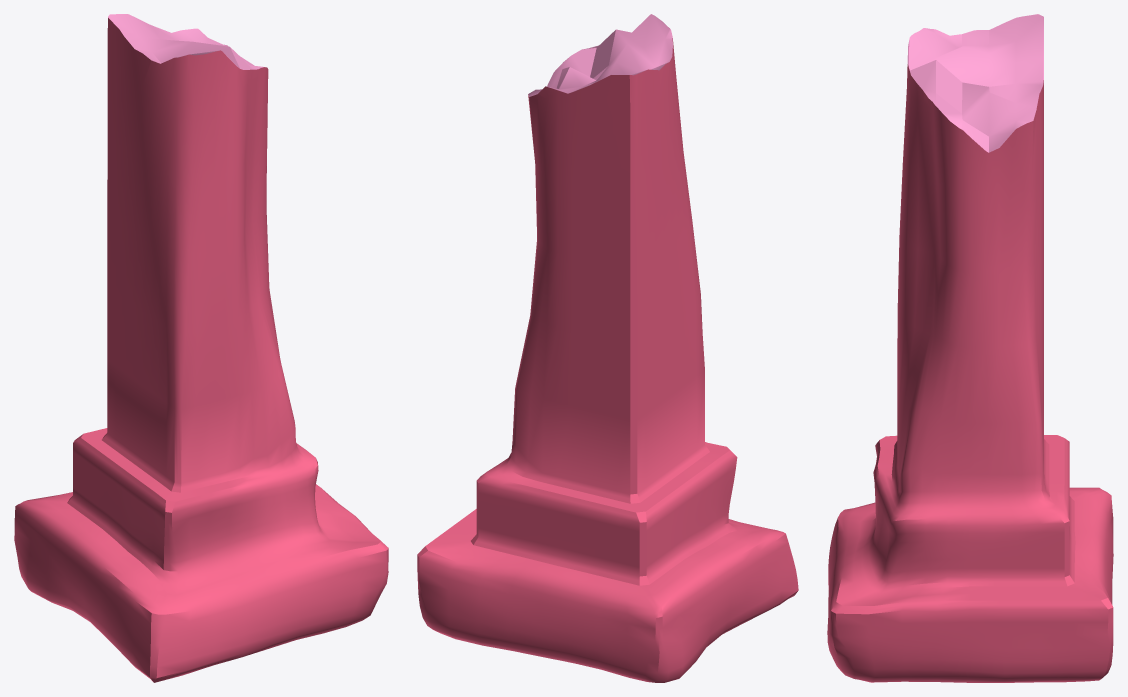
File: Broken Pillar.fbx
The picture shows the model from 3 angles, left to right: view 1: azimuth 30°, elevation 25°; view 2: azimuth 150°, elevation 25°; view 3: azimuth 270°, elevation 25°; orthographic projection.
Parts seen in each view (by area): view 1: Broken pillar; view 2: Broken pillar; view 3: Broken pillar.
Part boxes in pixels (x1,y1,x2,y2): Broken pillar: [14, 14, 388, 682]; Broken pillar: [417, 14, 798, 682]; Broken pillar: [827, 14, 1113, 682].
Size of the model in its own units: 203 by 456 by 200.
